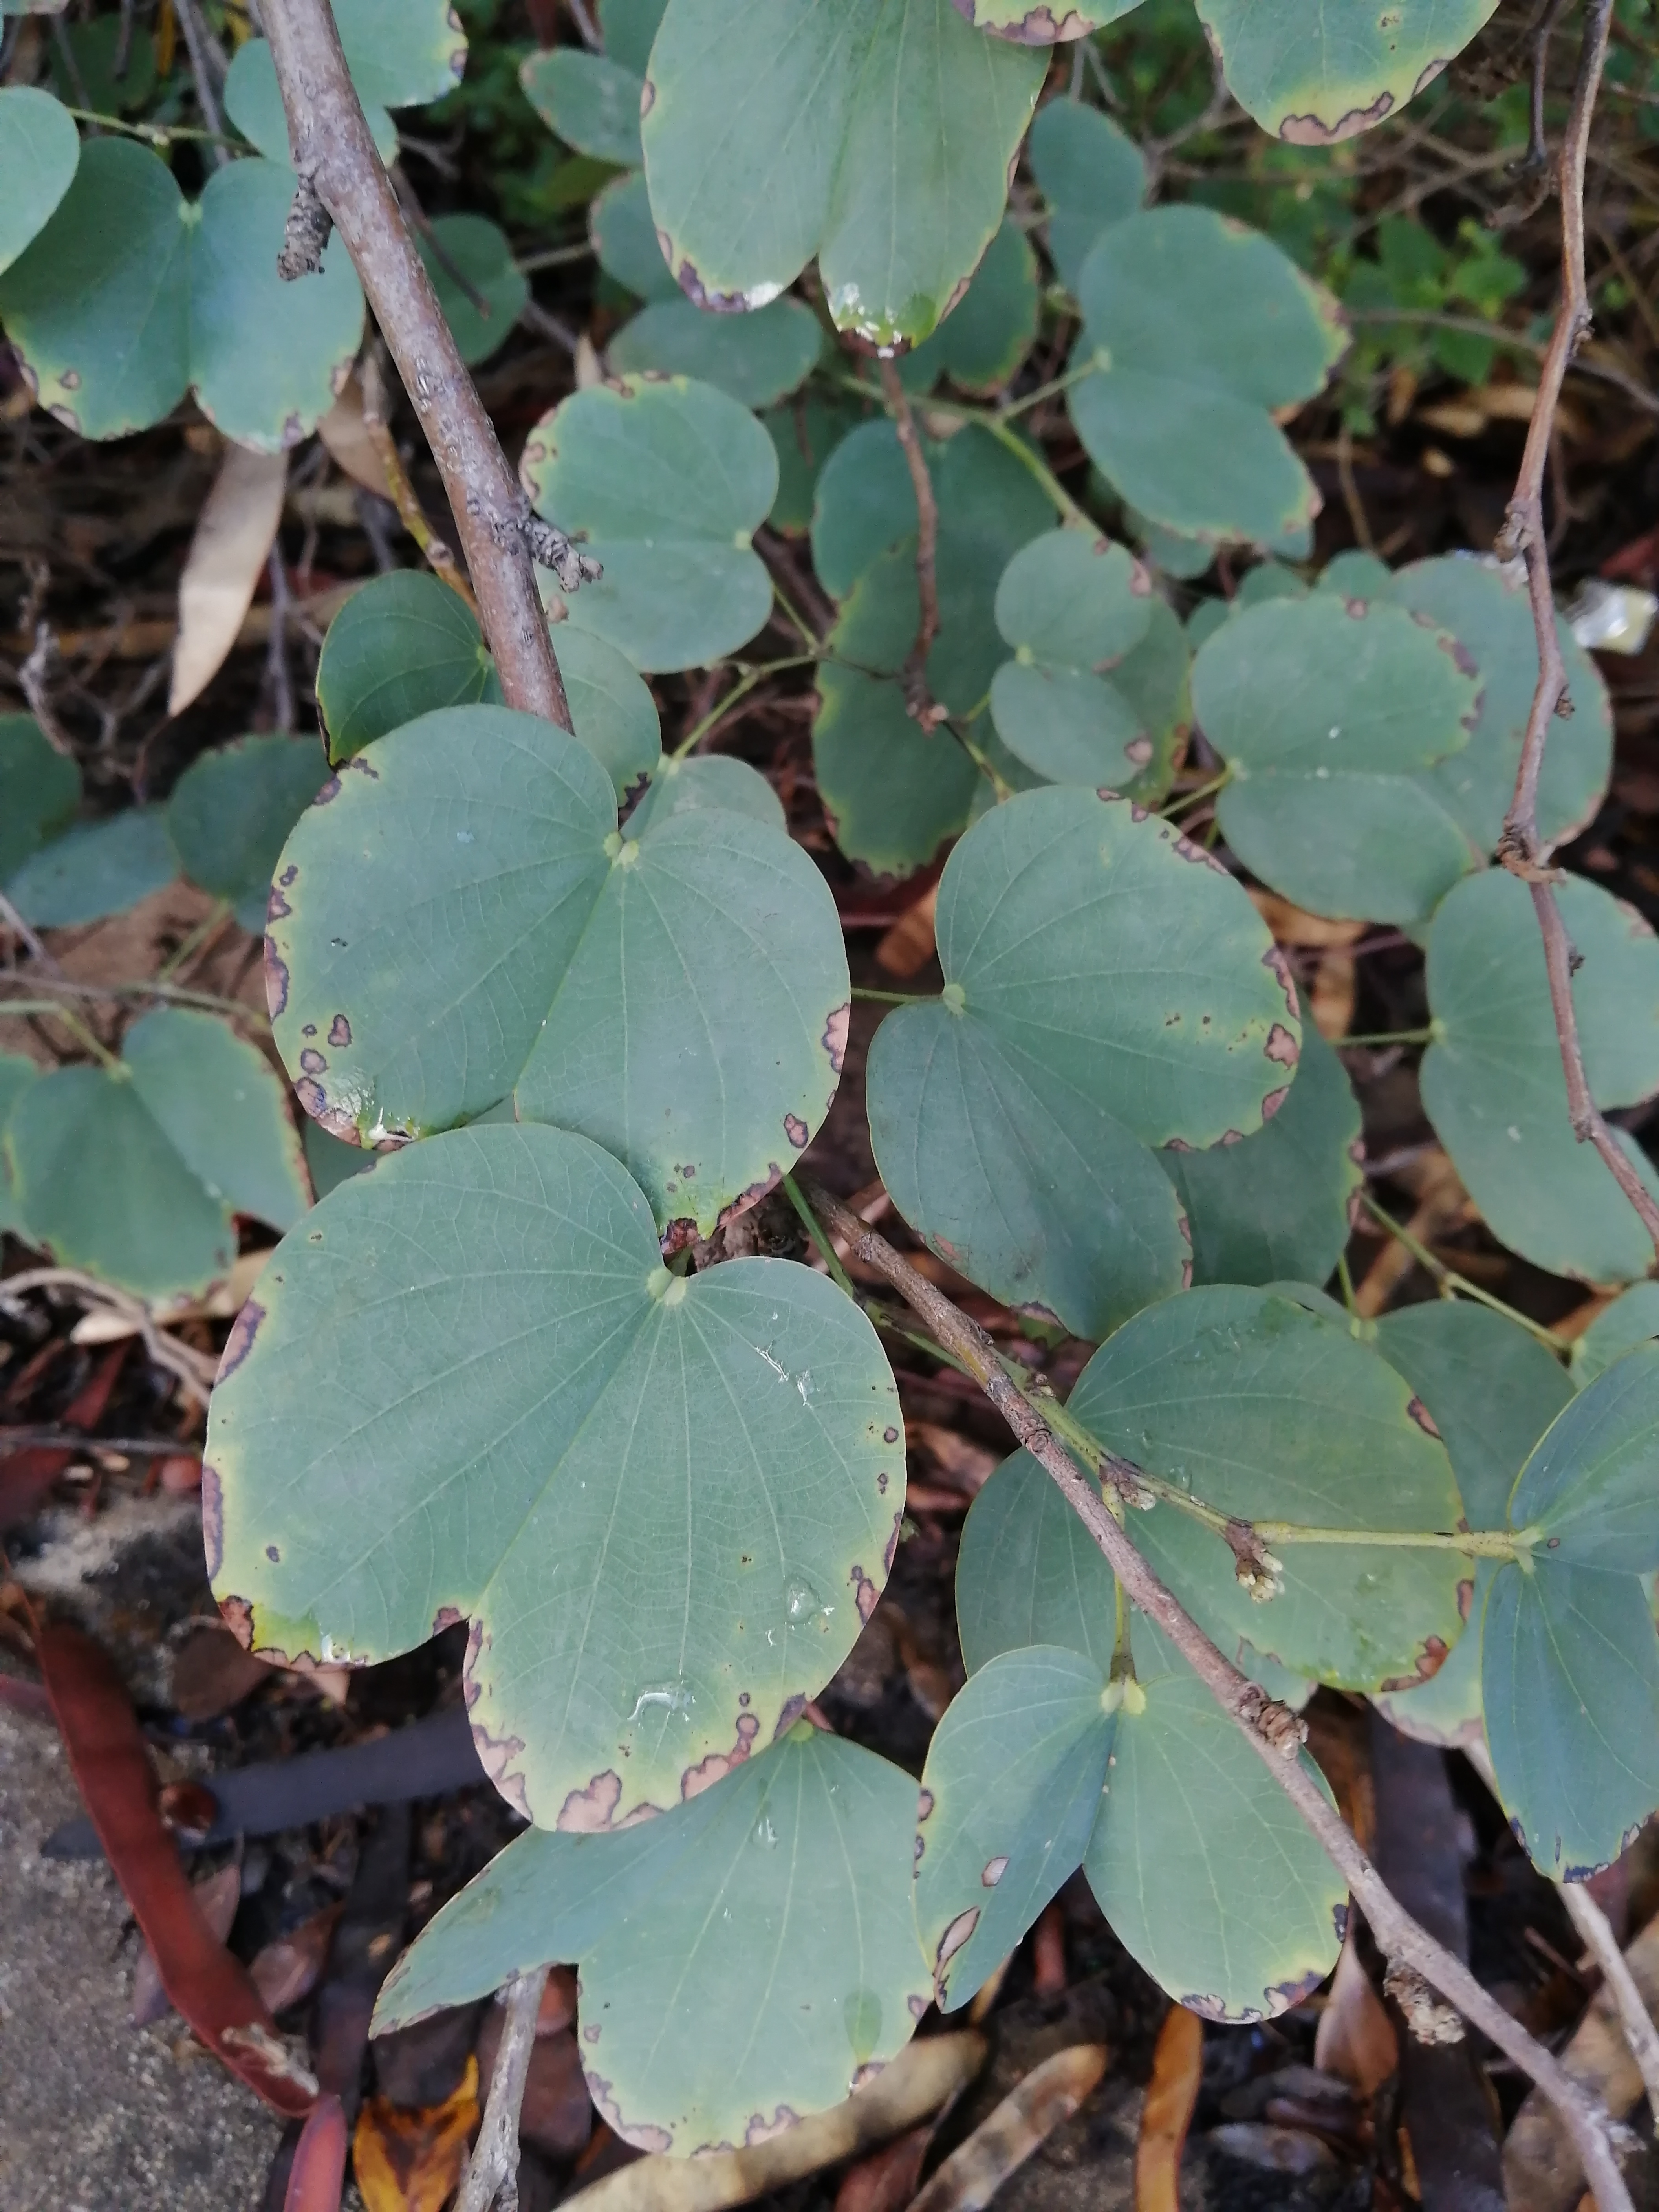nothealthy: (159, 1183, 951, 1820), (213, 685, 929, 1251), (291, 1766, 1047, 2172), (861, 730, 1342, 1294), (594, 7, 1014, 340), (17, 145, 390, 484), (1169, 559, 1518, 916), (483, 343, 803, 679), (887, 1616, 1133, 2010), (965, 0, 1513, 152)
